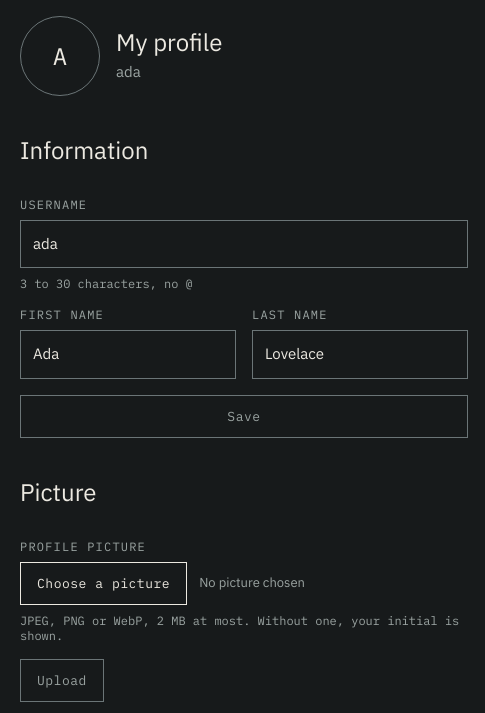
Test case: ProfilePage information form › sends only the changed field, then shows the saved profile
Step 1. Replace the text in the field labelled "First name" with "Augusta" → (128, 355), box [20,330,236,379]
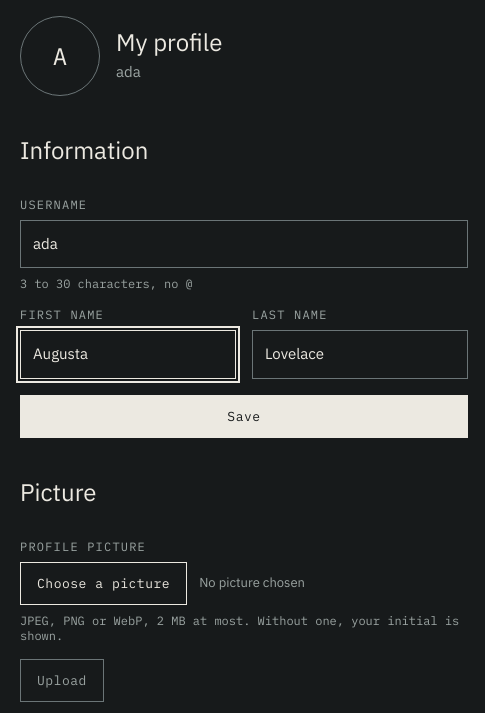
Step 2. Click the button "Save" → (244, 416), box [20,395,468,438]
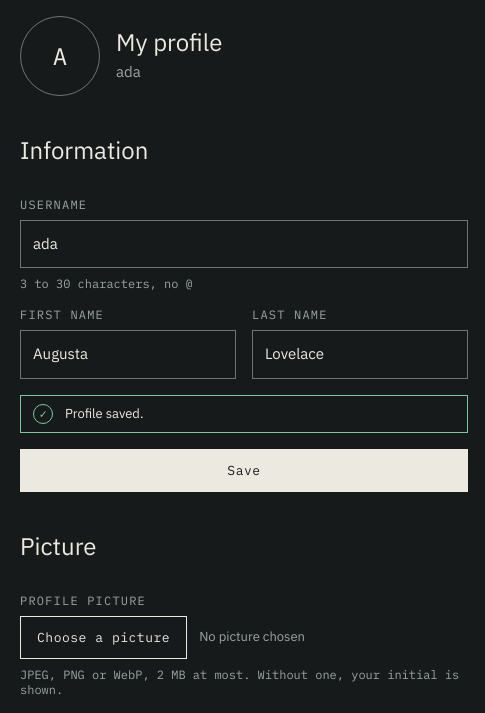
Now the text "Profile saved." is shown, box [65,404,144,424]
